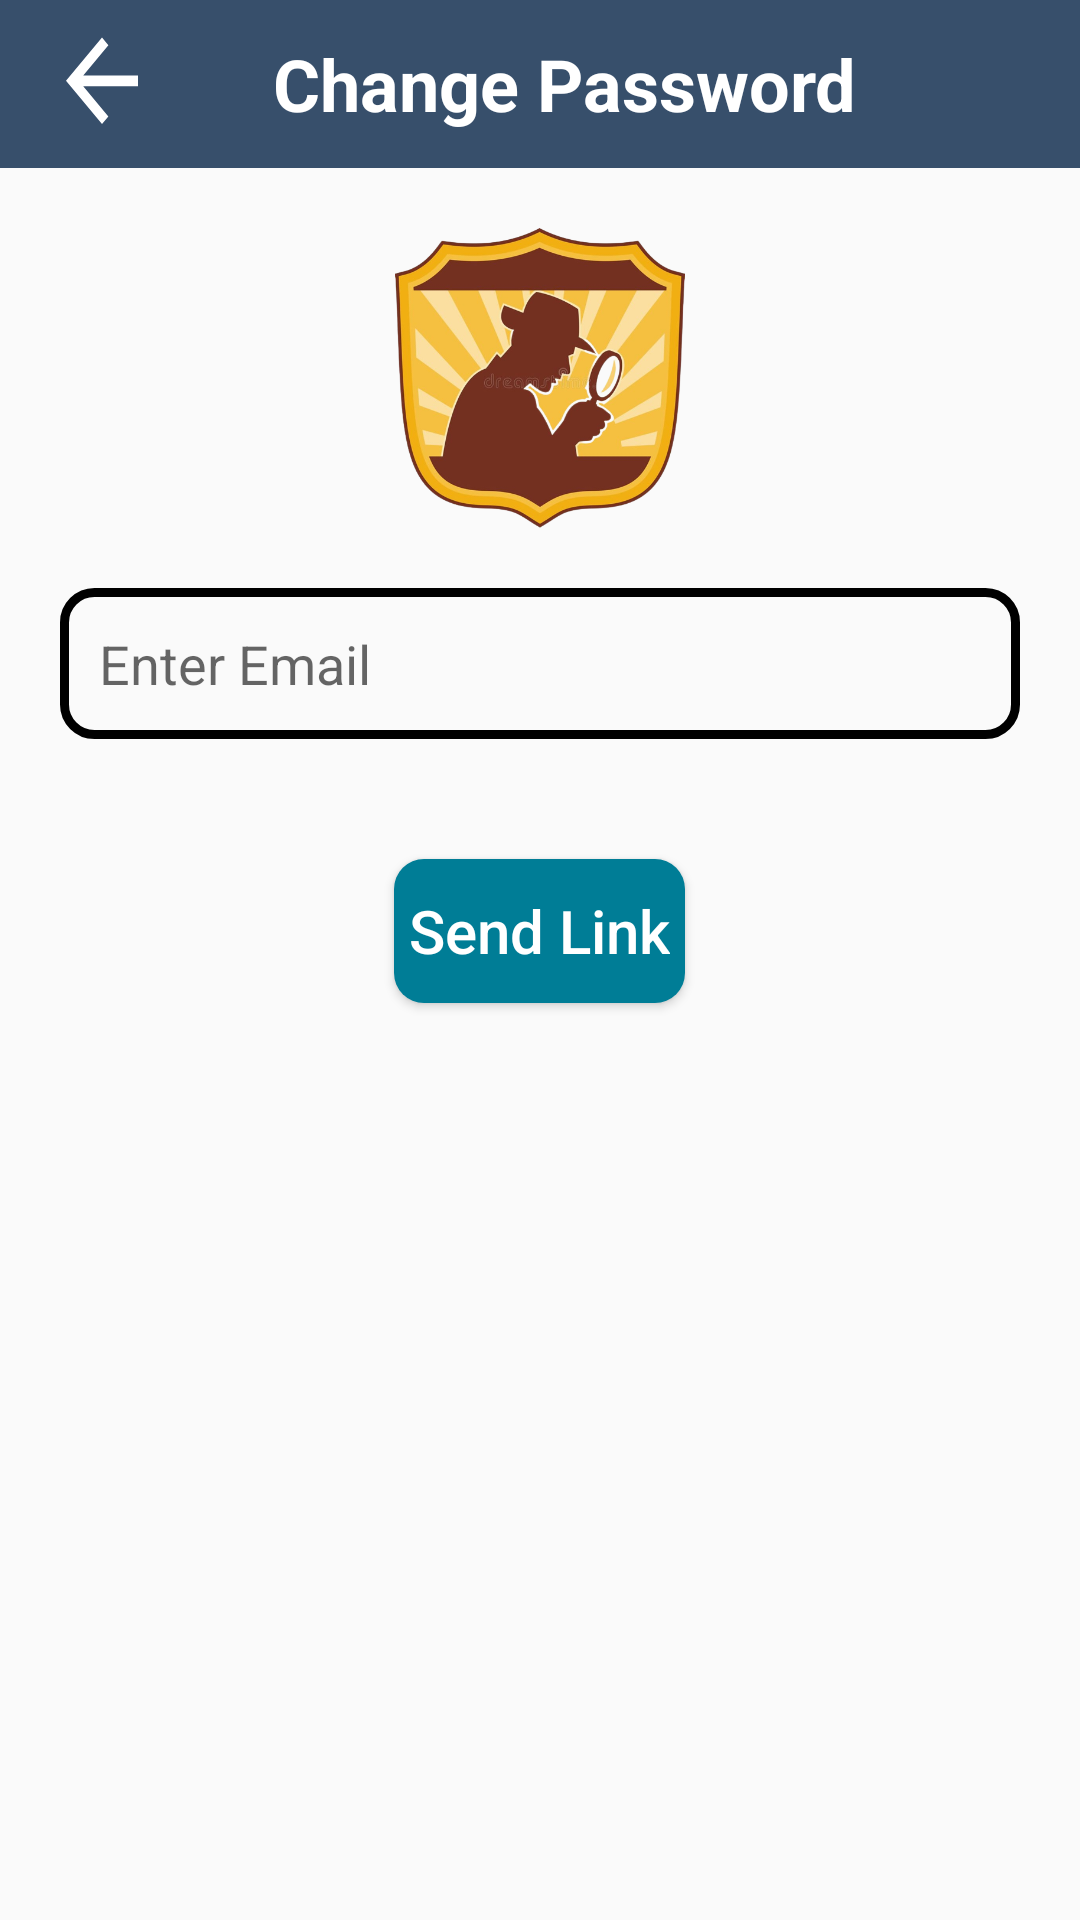

Named icons in this screenshot (1080px×1920px) and their bounding boxes, BBox(x1, y1, x2, y2):
arrow back: BBox(66, 38, 138, 124)
